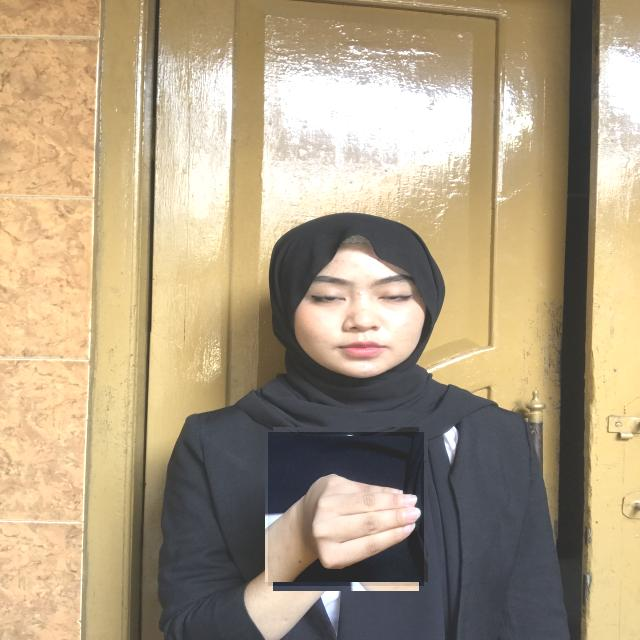kapan: (268, 432, 424, 586)
